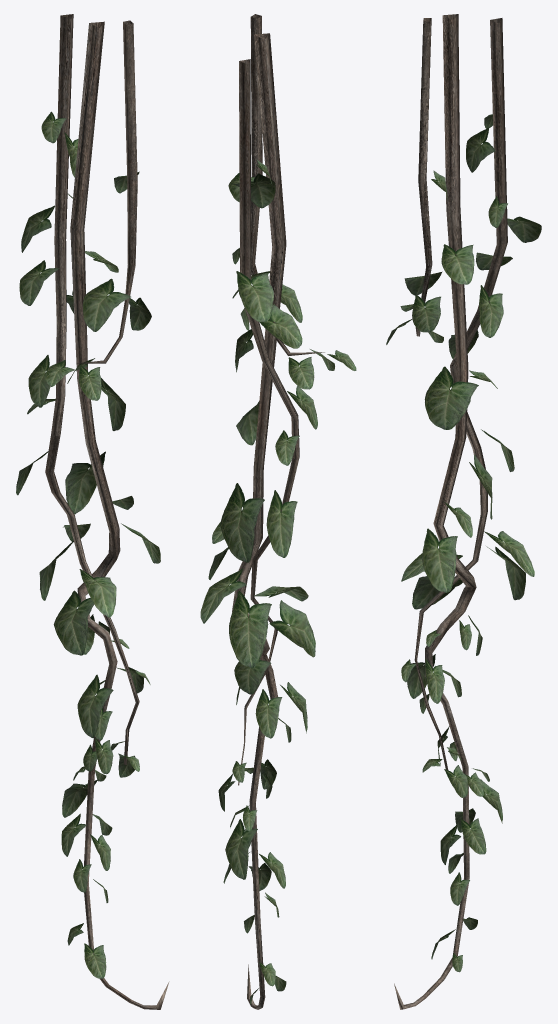
File: Model_HangingPlant_07.fbx
3 views of the same model, side by side, from view 1: azimuth 30°, elevation 25°; view 2: azimuth 150°, elevation 25°; view 3: azimuth 270°, elevation 25° (orthographic).
Visible parts, largest first — view 1: Plant_05; view 2: Plant_05; view 3: Plant_05.
Boxes of the visible parts, left/top/right/bottom form: Plant_05: left=16, top=14, right=169, bottom=1009; Plant_05: left=200, top=14, right=356, bottom=1009; Plant_05: left=386, top=14, right=541, bottom=1009.
Size of the model in its own units: 123 by 913 by 133.
